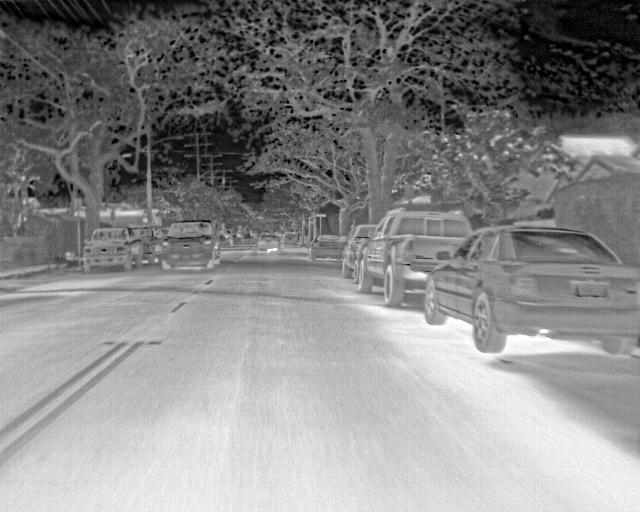car: (424, 226, 639, 352), (358, 208, 473, 307), (161, 220, 220, 271), (84, 227, 143, 273), (342, 222, 379, 277), (136, 223, 160, 263), (310, 234, 344, 261), (257, 232, 278, 252), (220, 227, 236, 249), (280, 230, 299, 246)
